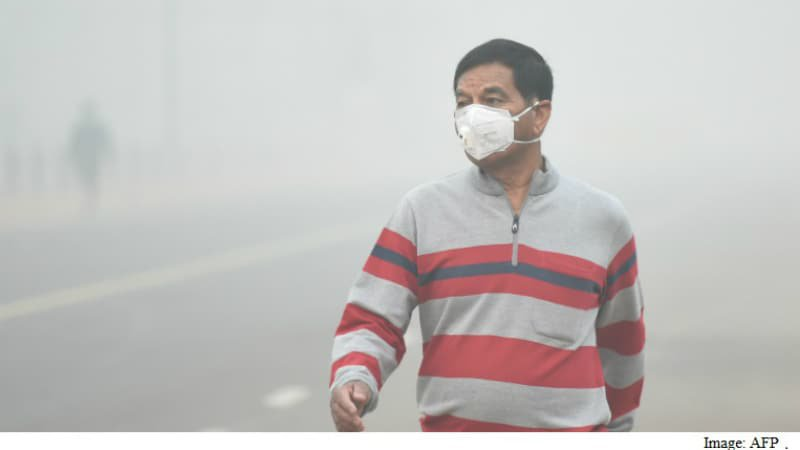mask: (445, 40, 570, 166)
